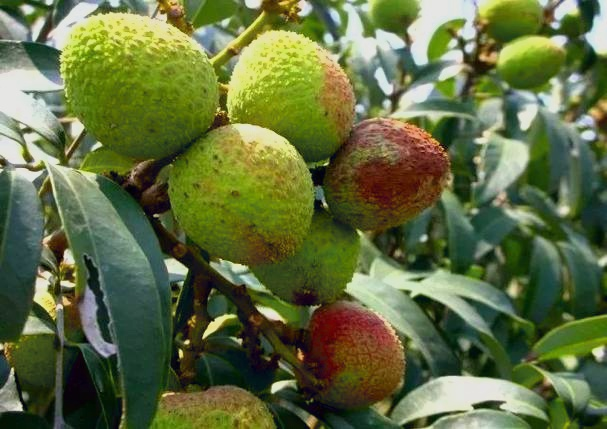Anthracnose: (286, 289, 422, 387), (353, 115, 473, 219), (153, 369, 288, 423), (307, 67, 372, 119)
